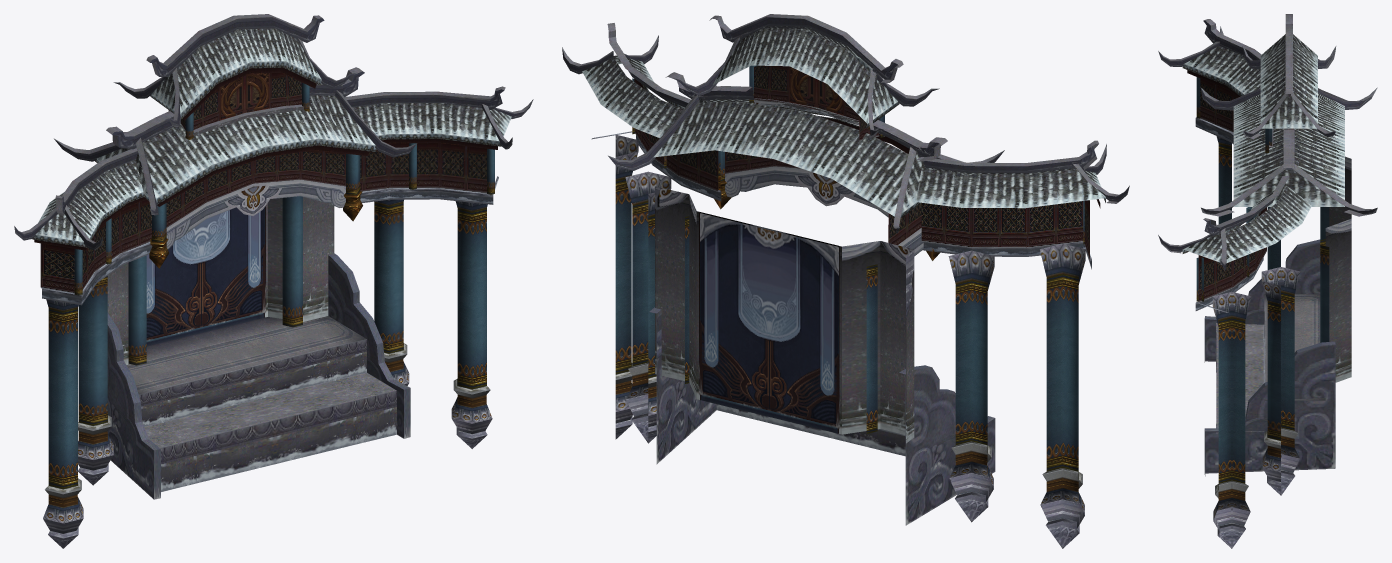
Rendered from yw_piaomiaofeng_zhujian.FBX.
The picture shows the model from 3 angles, left to right: view 1: azimuth 30°, elevation 25°; view 2: azimuth 150°, elevation 25°; view 3: azimuth 270°, elevation 25°; orthographic projection. The views are drawn at different scales.
Visible parts, largest first — view 1: yw_piaomiaofeng_zhujian; view 2: yw_piaomiaofeng_zhujian; view 3: yw_piaomiaofeng_zhujian.
Boxes of the visible parts, bbox=[...] form: yw_piaomiaofeng_zhujian: bbox=[14, 14, 533, 548]; yw_piaomiaofeng_zhujian: bbox=[562, 14, 1129, 548]; yw_piaomiaofeng_zhujian: bbox=[1158, 14, 1377, 548].
Size of the model in its own units: 1724 by 1457 by 686.
